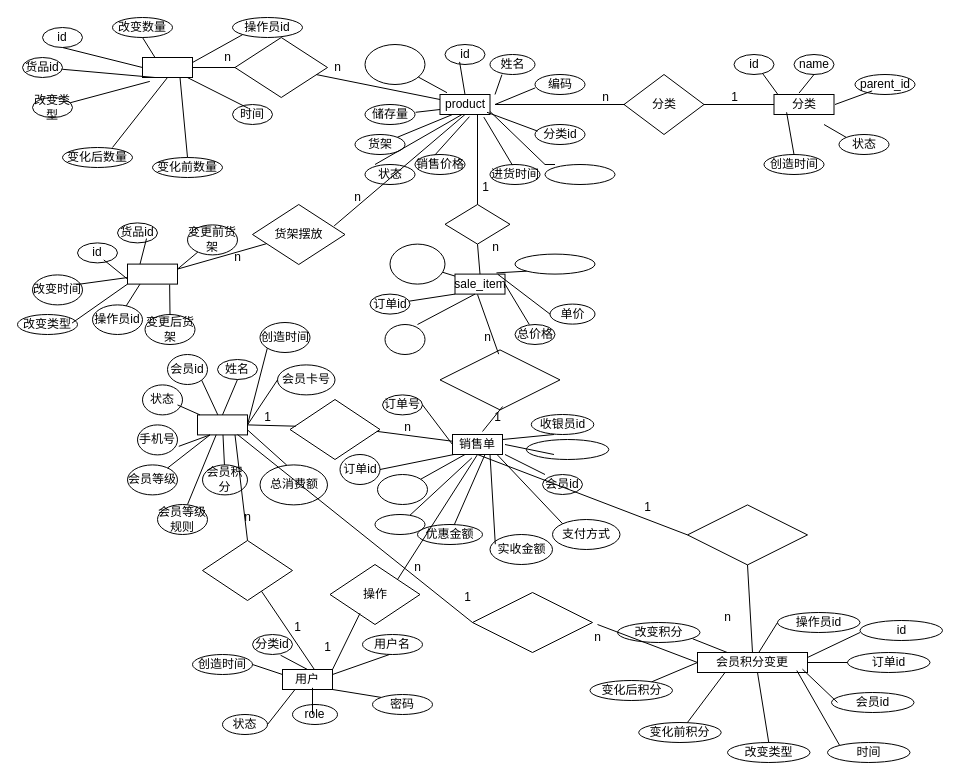
The diagram is 960 pixels wide and 780 high, and some of its shapes have lost their labels. The centre of each missing label's shape, as x and y in pixels:
"shelf_log" belongs at (152,273).
"stock_log" belongs at (167,67).
"产品id" belongs at (404,339).
"产品数量" belongs at (554,263).
"会员" belongs at (222,424).
"会员积分记录" belongs at (532,622).
"售卖" belongs at (477,224).
"属于" belongs at (499,379).
"库存" belongs at (281,67).
"应收金额" belongs at (399,524).
"收银明细id" belongs at (417,263).
"更新时间" belongs at (579,174).
"最小储存量" belongs at (394,64).
"添加" belongs at (247,570).
"积分使用订单" belongs at (747,534).
"订单时间" belongs at (402,489).
"订单状态" belongs at (567,449).
"购买" belongs at (334,429).
